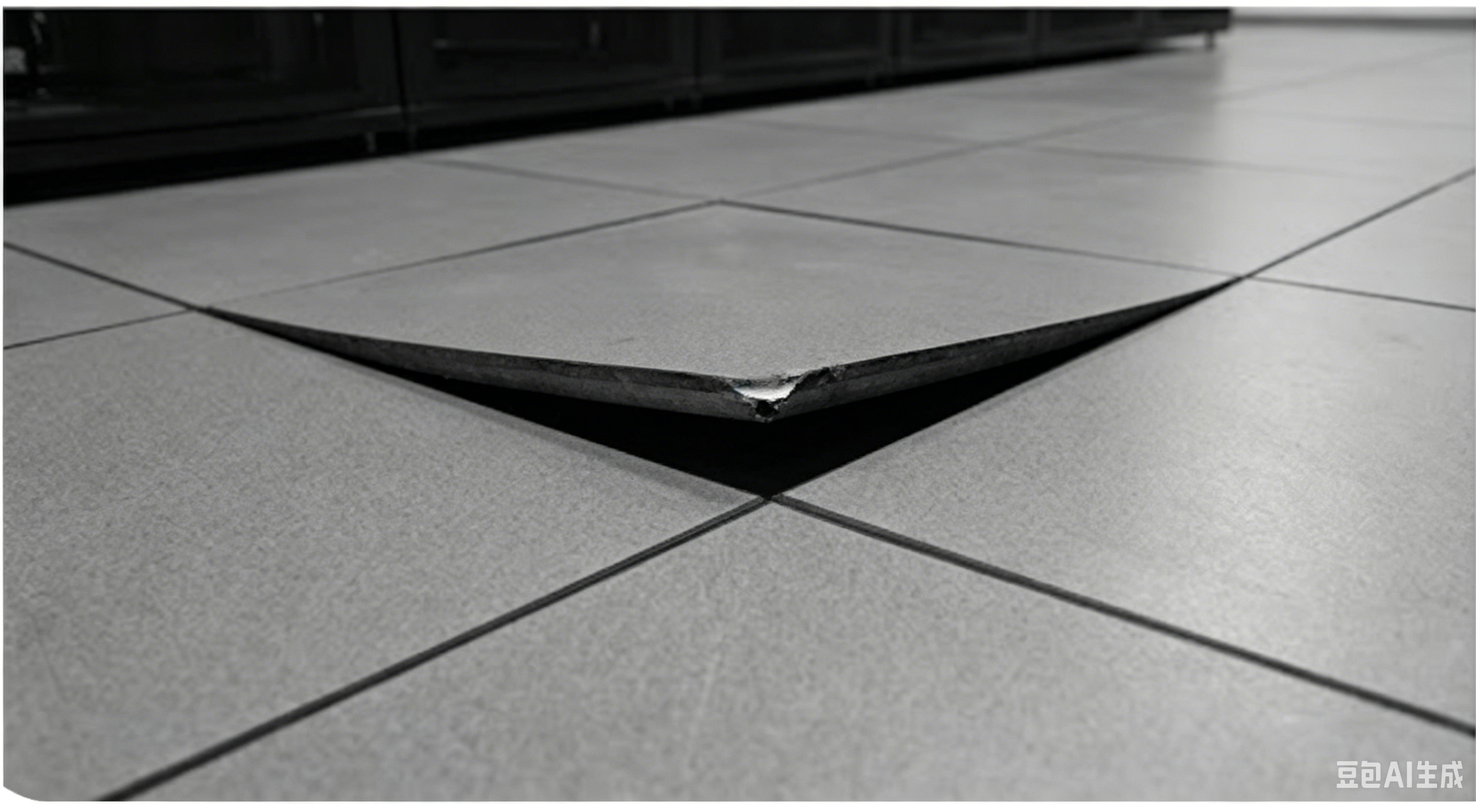floor_defect: (226, 280, 1268, 510)
